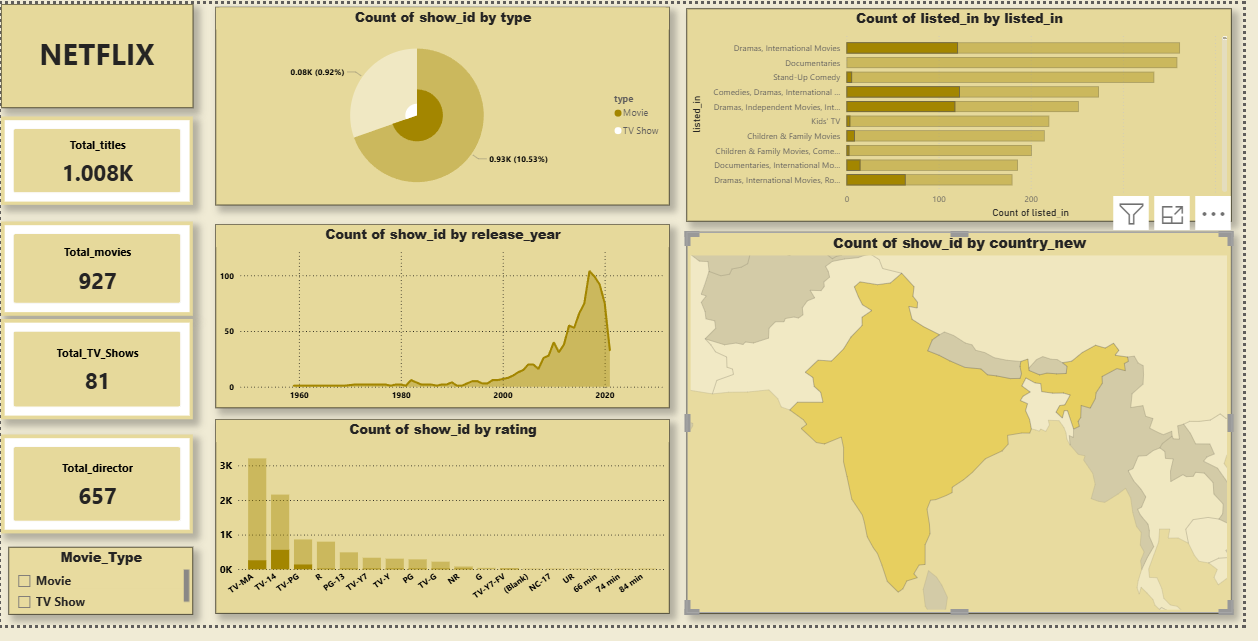

The page's visual inventory and layout, read from the dashboard file:
{"tool":"powerbi","page":{"name":"Page 1","canvas":[1800,900],"ordinal":0},"visuals":[{"type":"textbox","box":[0,0,278.5,150.6],"z":0},{"type":"cardVisual","fields":{"Data":["netflix_titles.Total_titles"]},"box":[0,163,278.3,128.3],"z":1000},{"type":"cardVisual","fields":{"Data":["netflix_titles.Total_movies"]},"box":[0,315.2,278.3,137],"z":2000},{"type":"cardVisual","fields":{"Data":["netflix_titles.Total_TV_Shows"]},"box":[0,456.5,278.3,145.7],"z":3000},{"type":"pieChart","fields":{"Category":["netflix_titles.type"],"Y":["CountNonNull(netflix_titles.show_id)"]},"box":[310.9,4.3,658,287.5],"z":4000},{"type":"clusteredBarChart","fields":{"Category":["netflix_titles.listed_in"],"Y":["CountNonNull(netflix_titles.listed_in)"]},"box":[994.4,6.4,790,308.8],"z":5000},{"type":"areaChart","fields":{"Category":["netflix_titles.release_year"],"Y":["CountNonNull(netflix_titles.show_id)"]},"box":[310.9,319.4,658,266.2],"z":6000},{"type":"lineStackedColumnComboChart","fields":{"Y":["CountNonNull(netflix_titles.show_id)"],"Category":["netflix_titles.rating"]},"box":[310.9,602.6,658,281.1],"z":7000},{"type":"shapeMap","fields":{"Category":["netflix_titles.country_new"],"Value":["CountNonNull(netflix_titles.show_id)"]},"box":[994.4,330,790,553.6],"z":7001},{"type":"cardVisual","fields":{"Data":["netflix_titles.Total_director"]},"box":[0,623.9,278.3,143.5],"z":7002},{"type":"slicer","title":"Movie_Type","fields":{"Values":["netflix_titles.type"]},"box":[10.9,787,267.4,97.8],"z":7003}]}

Visuals, with their boxes in screenshot pixels (x1, y1, x2, y2), scaled from the page's 1800x900 canvas onto the 1258x641 screenshot:
textbox: l=0, t=0, r=195, b=107
cardVisual - netflix_titles.Total_titles: l=0, t=116, r=195, b=207
cardVisual - netflix_titles.Total_movies: l=0, t=224, r=195, b=322
cardVisual - netflix_titles.Total_TV_Shows: l=0, t=325, r=195, b=429
pieChart - netflix_titles.type x CountNonNull(netflix_titles.show_id): l=217, t=3, r=677, b=208
clusteredBarChart - netflix_titles.listed_in x CountNonNull(netflix_titles.listed_in): l=695, t=5, r=1247, b=224
areaChart - netflix_titles.release_year x CountNonNull(netflix_titles.show_id): l=217, t=227, r=677, b=417
lineStackedColumnComboChart - CountNonNull(netflix_titles.show_id) x netflix_titles.rating: l=217, t=429, r=677, b=629
shapeMap - netflix_titles.country_new x CountNonNull(netflix_titles.show_id): l=695, t=235, r=1247, b=629
cardVisual - netflix_titles.Total_director: l=0, t=444, r=195, b=547
"Movie_Type" slicer: l=8, t=561, r=195, b=630
